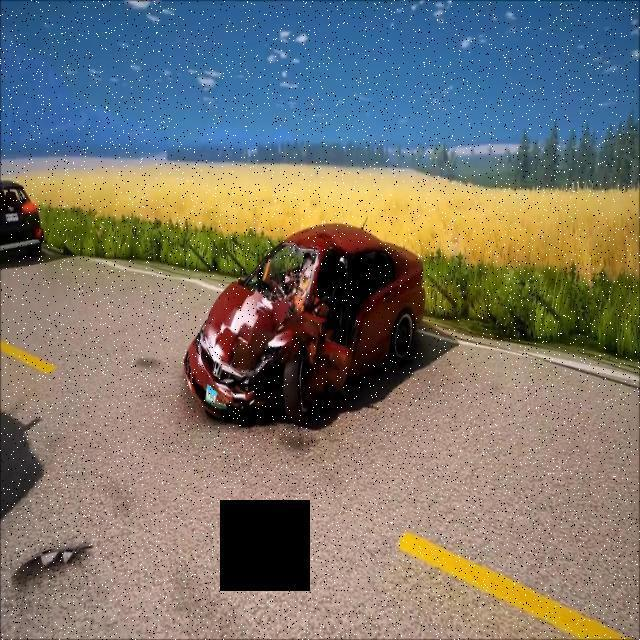single accident: (174, 189, 430, 420)
